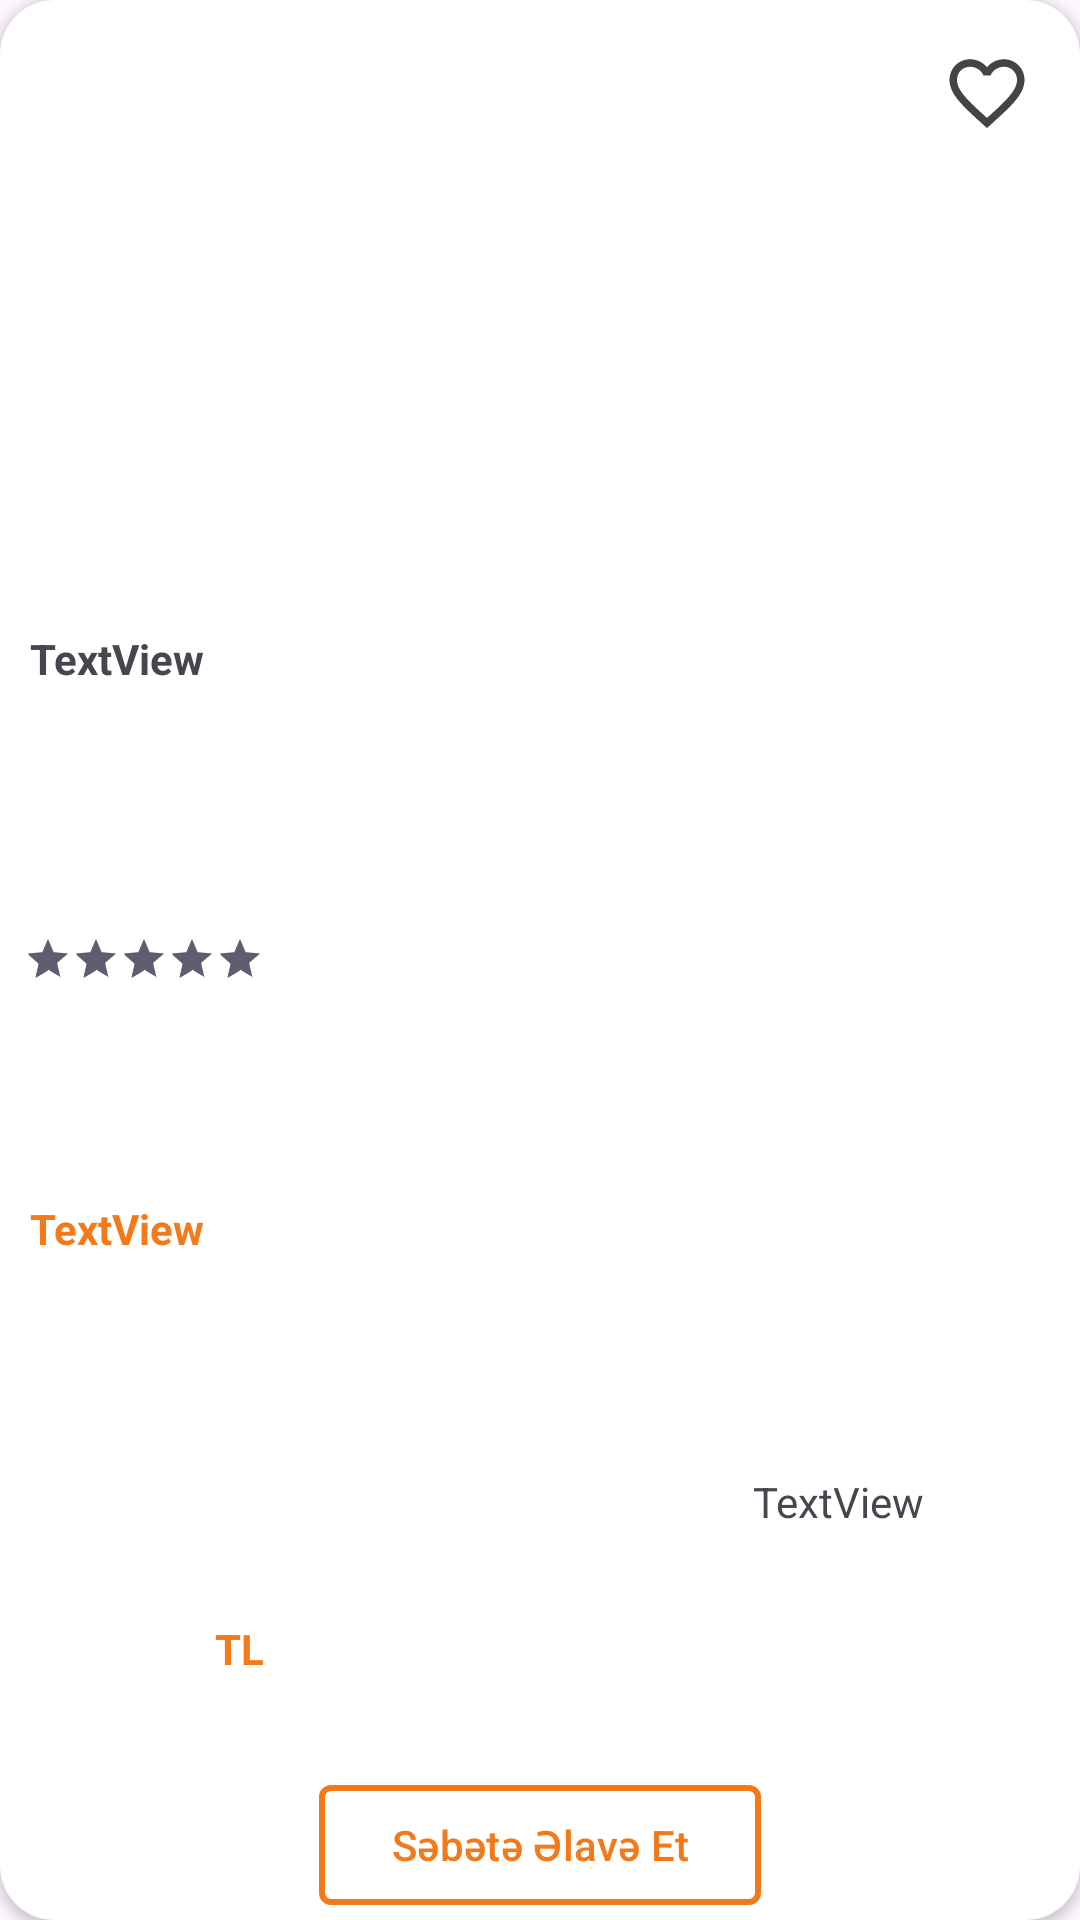

Screen size 1080w x 1920h. Icon name, then its center in pixels as (x=x, y=y):
favorite border: (x=987, y=93)
